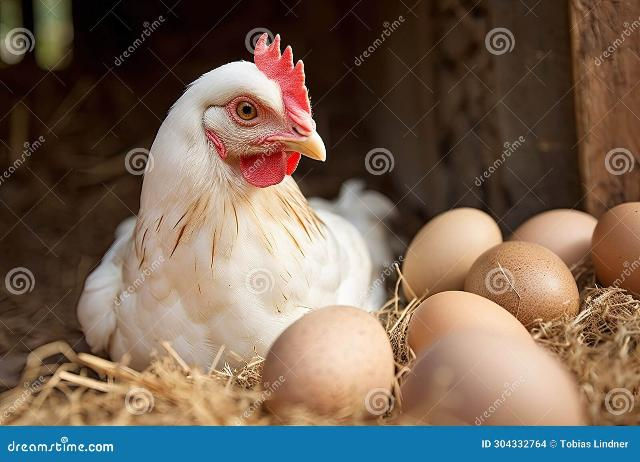Chicken: (76, 31, 377, 390)
